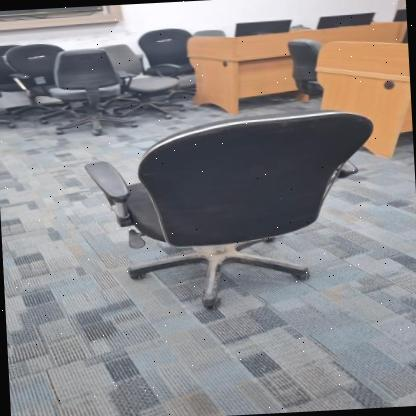chair: (78, 95, 386, 323)
